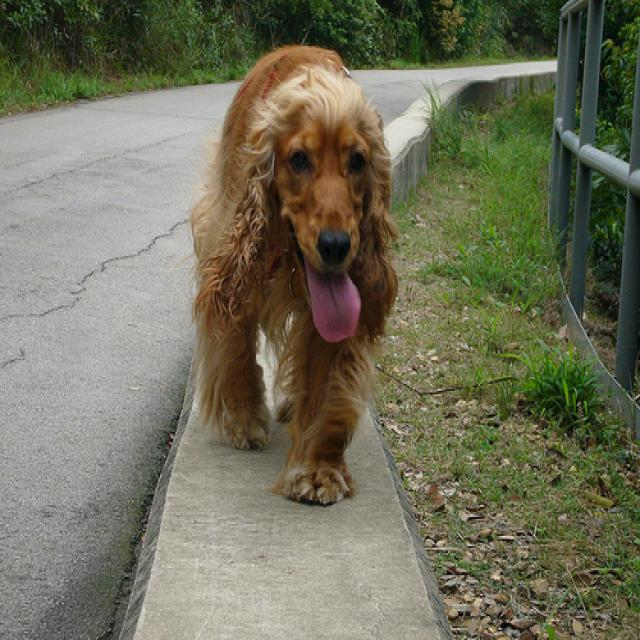dog-english_cocker_spaniel: (186, 29, 413, 514)
